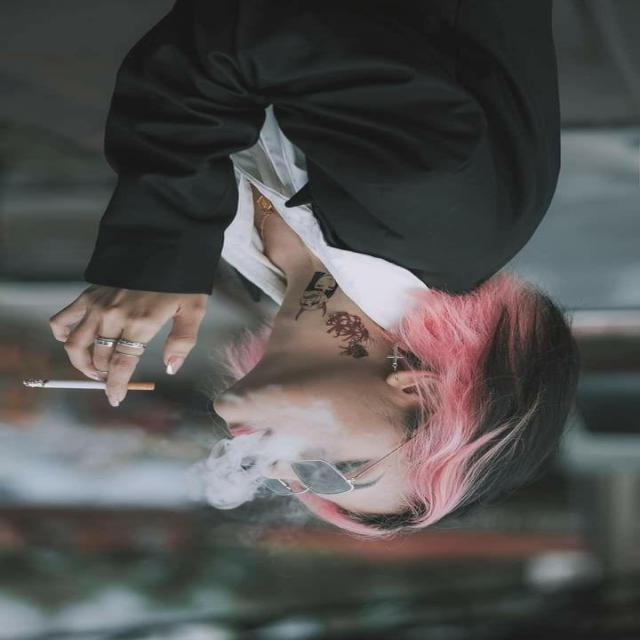cigarette: (16, 366, 161, 412)
